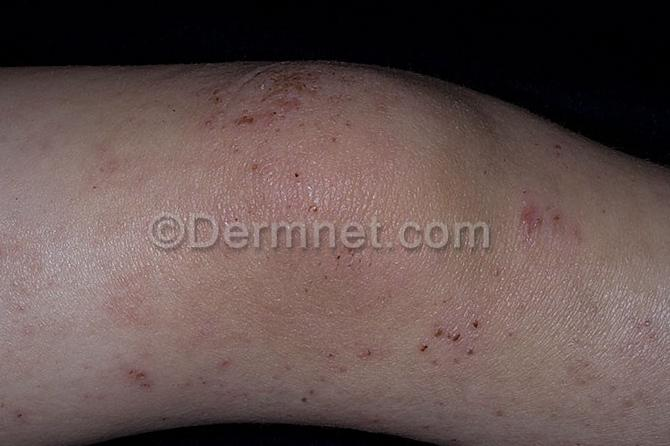excoriacion 1: (231, 68, 325, 128)
exudacion 1: (116, 308, 500, 417), (206, 67, 336, 166), (513, 206, 572, 233)
